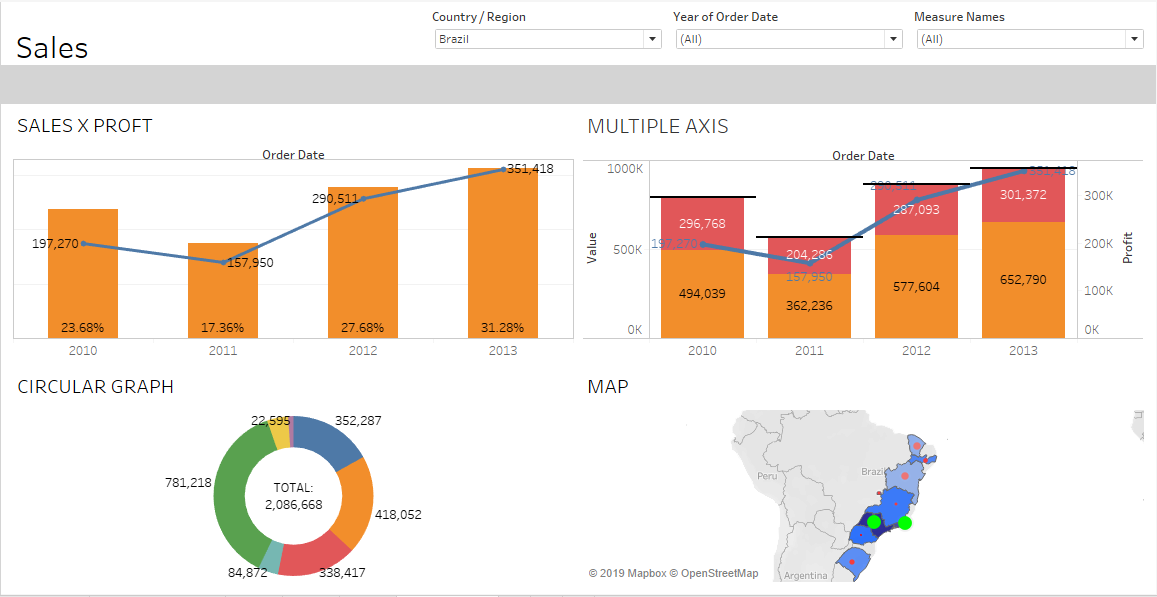

This screenshot's page, from the dashboard's own definition file:
{"tool":"tableau","page":{"name":"Dashboard 1","canvas":[1000,1000],"units":"permille","ordinal":0},"visuals":[{"type":"filter","title":"SALES/PROFIT BY ORDER","param":"[federated.086f7x41sdbd0q0zoeezi1q3st2c].[none:Country / Region:nk]","box":[369.7,3.4,208.7,103]},{"type":"filter","title":"SALES/PROFIT BY ORDER","param":"[federated.086f7x41sdbd0q0zoeezi1q3st2c].[yr:Order Date:ok]","box":[578.4,3.4,208.7,103]},{"type":"filter","title":"SALES/PROFIT BY ORDER","param":"[federated.086f7x41sdbd0q0zoeezi1q3st2c].[:Measure Names]","box":[787,3.4,208.7,103]},{"type":"blank","box":[6.9,13.5,986.1,157.1]},{"type":"text","box":[10,48.8,100,50]},{"type":"worksheet","title":"SALES/PROFIT BY ORDER","mark":"Bar","rows":["Sales","Profit"],"cols":["Order Date"],"box":[6.9,170.6,493.1,441]},{"type":"worksheet","title":"Sheet 3","mark":"Bar","rows":["Profit"],"cols":["Order Date"],"box":[500,170.6,493.1,441]},{"type":"worksheet","title":"Sheet 5","mark":"Pie","rows":["Calculation_647955436660178945","Calculation_647955436661391363"],"box":[6.9,611.6,493.1,374.9]},{"type":"worksheet","title":"Sheet 4","mark":"Automatic","box":[500,611.6,493.1,374.9]}]}

Visuals, with their boxes on the dashboard's canvas, which has no fixed pixel size, in thousandths of its width and height (x1, y1, x2, y2). These are canvas units, not pixel positions in the 1157x597 screenshot, which may show the page scaled, cropped or inside an application window:
"SALES/PROFIT BY ORDER" filter: crop(370, 3, 578, 106)
"SALES/PROFIT BY ORDER" filter: crop(578, 3, 787, 106)
"SALES/PROFIT BY ORDER" filter: crop(787, 3, 996, 106)
blank: crop(7, 14, 993, 171)
text: crop(10, 49, 110, 99)
"SALES/PROFIT BY ORDER" worksheet (Bar marks): crop(7, 171, 500, 612)
"Sheet 3" worksheet (Bar marks): crop(500, 171, 993, 612)
"Sheet 5" worksheet (Pie marks): crop(7, 612, 500, 986)
"Sheet 4" worksheet: crop(500, 612, 993, 986)
